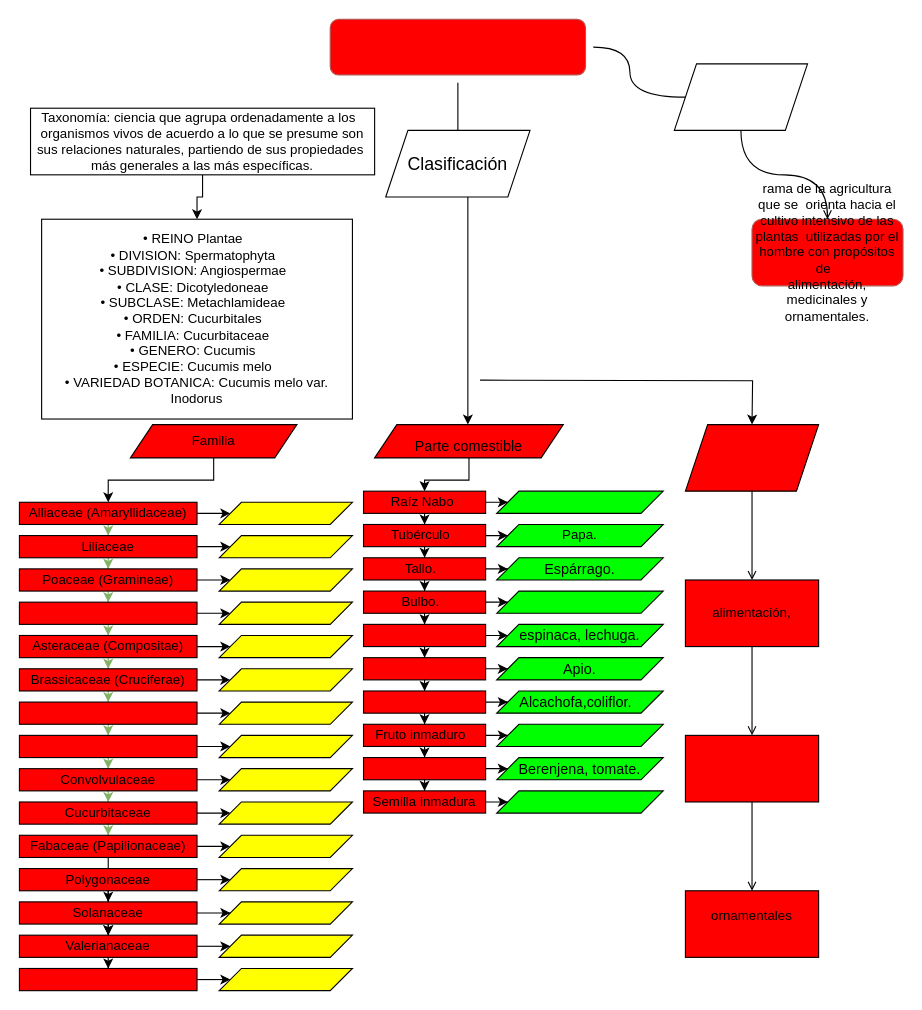
This 922x1010 diagram has some shape labels left out. The centre of each missing label's shape, as x and y in pixels:
"Ajo, cebolla." goes at (579,601).
"Ají, pepino, pimiento." goes at (579,734).
"Apiaceae (Umbelliferae)" goes at (107,612).
"Arveja." goes at (579,801).
"Capparidaceae" goes at (107,712).
"Chenopodiaceae" goes at (107,746).
"Definición" goes at (740,96).
"Fruto maduro" goes at (424,768).
"Hoja." goes at (424,635).
"hortalizas" goes at (457,46).
"Inflorescencia" goes at (424,701).
"Malvaceae" goes at (107,979).
"medicinales" goes at (751,768).
"Pecíolo." goes at (424,668).
"Por su uso" goes at (751,457).
"zanahoria." goes at (579,501).
